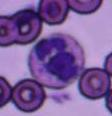N: (28, 32, 85, 88)
